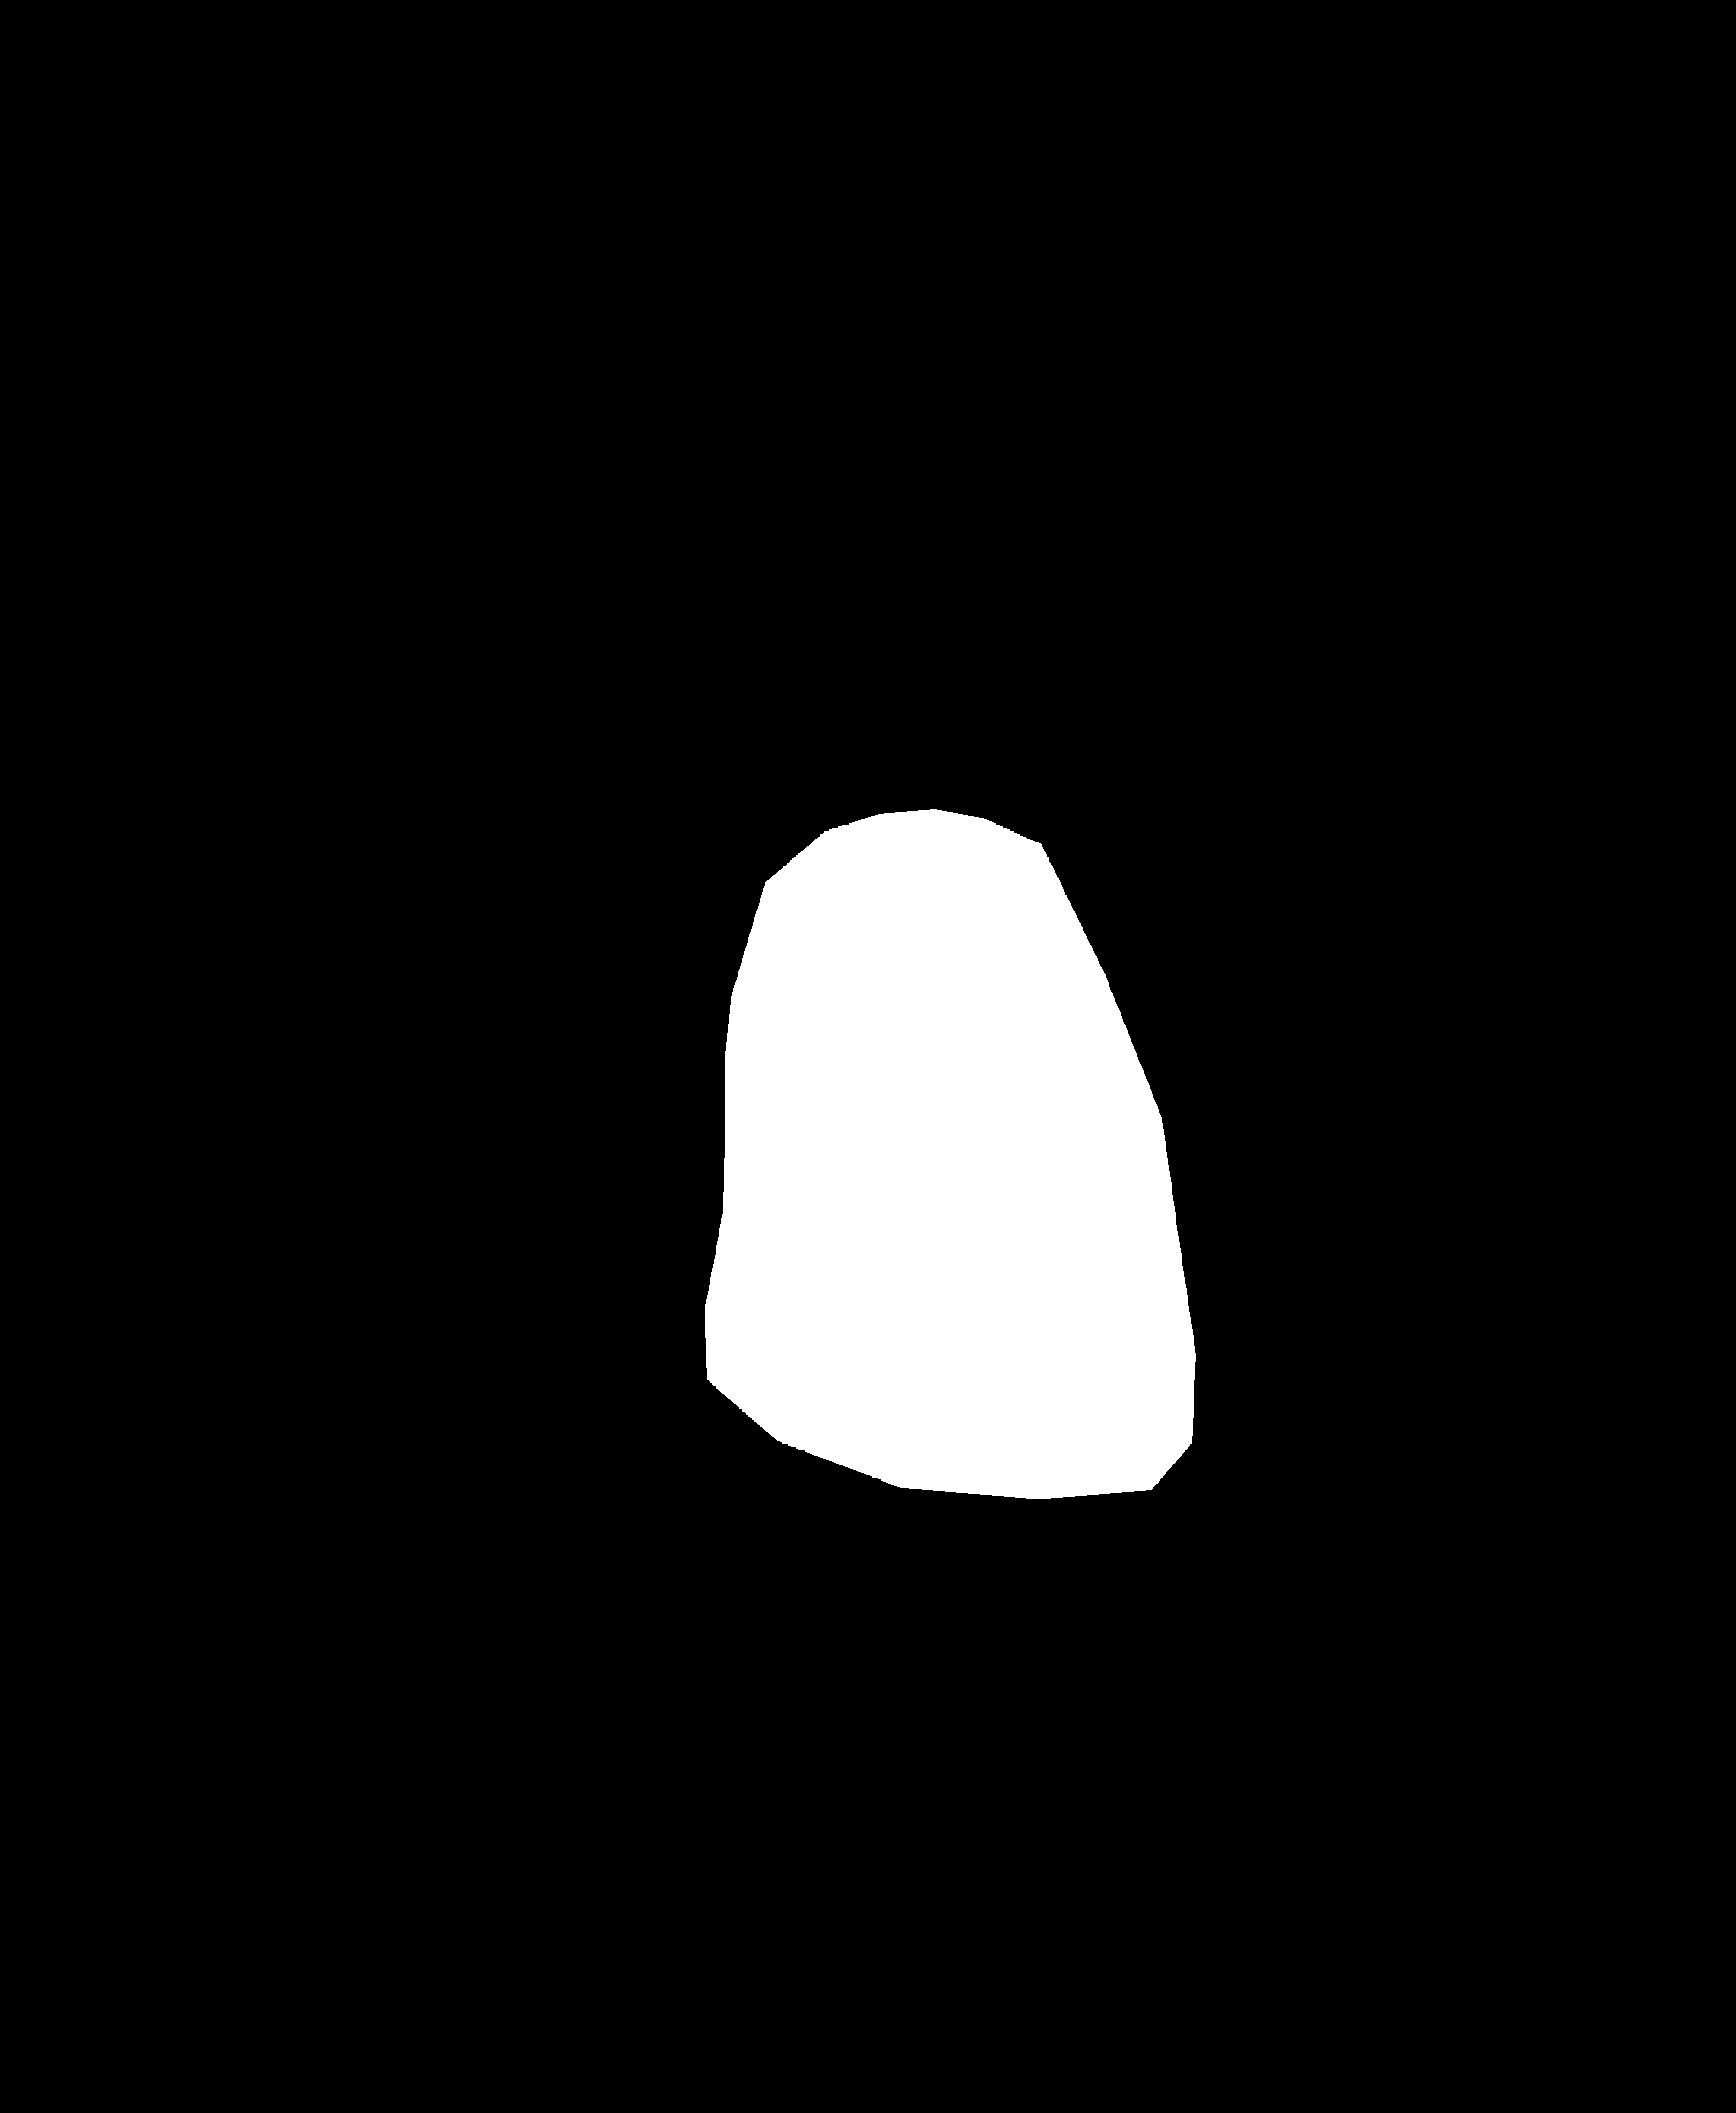heart: (716, 914, 1194, 1508)
left_lung: (170, 181, 778, 1744)
right_lung: (929, 184, 1538, 1737)
